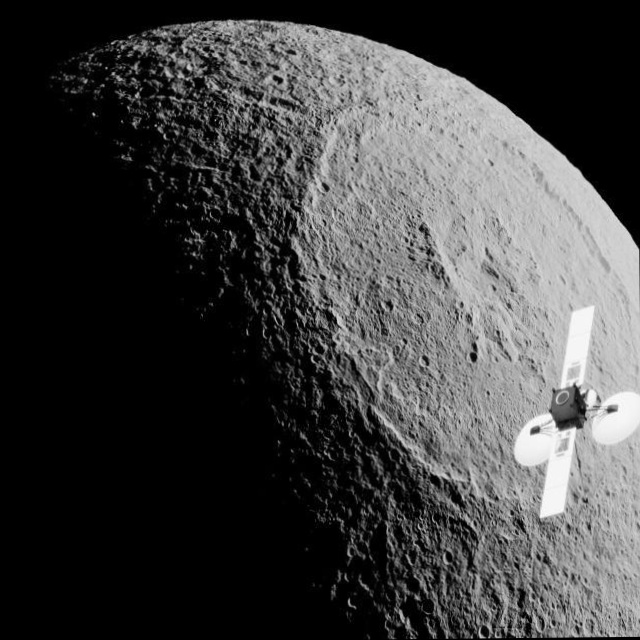satellite: (500, 298, 640, 520)
